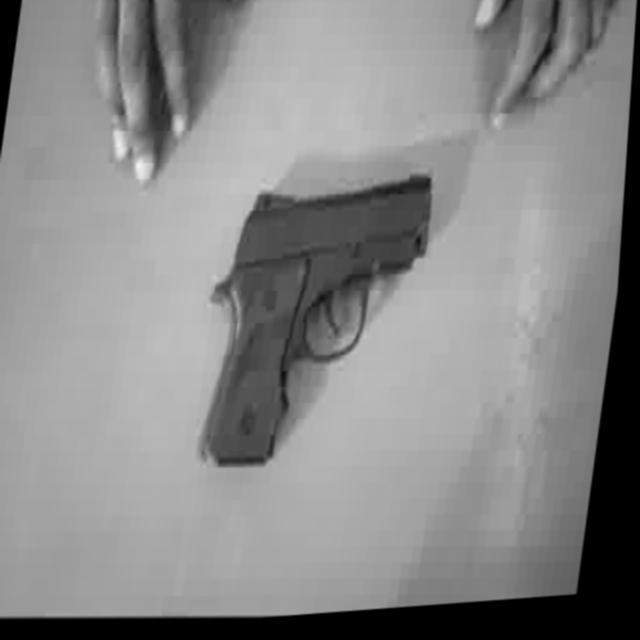weapon: (192, 158, 442, 486)
